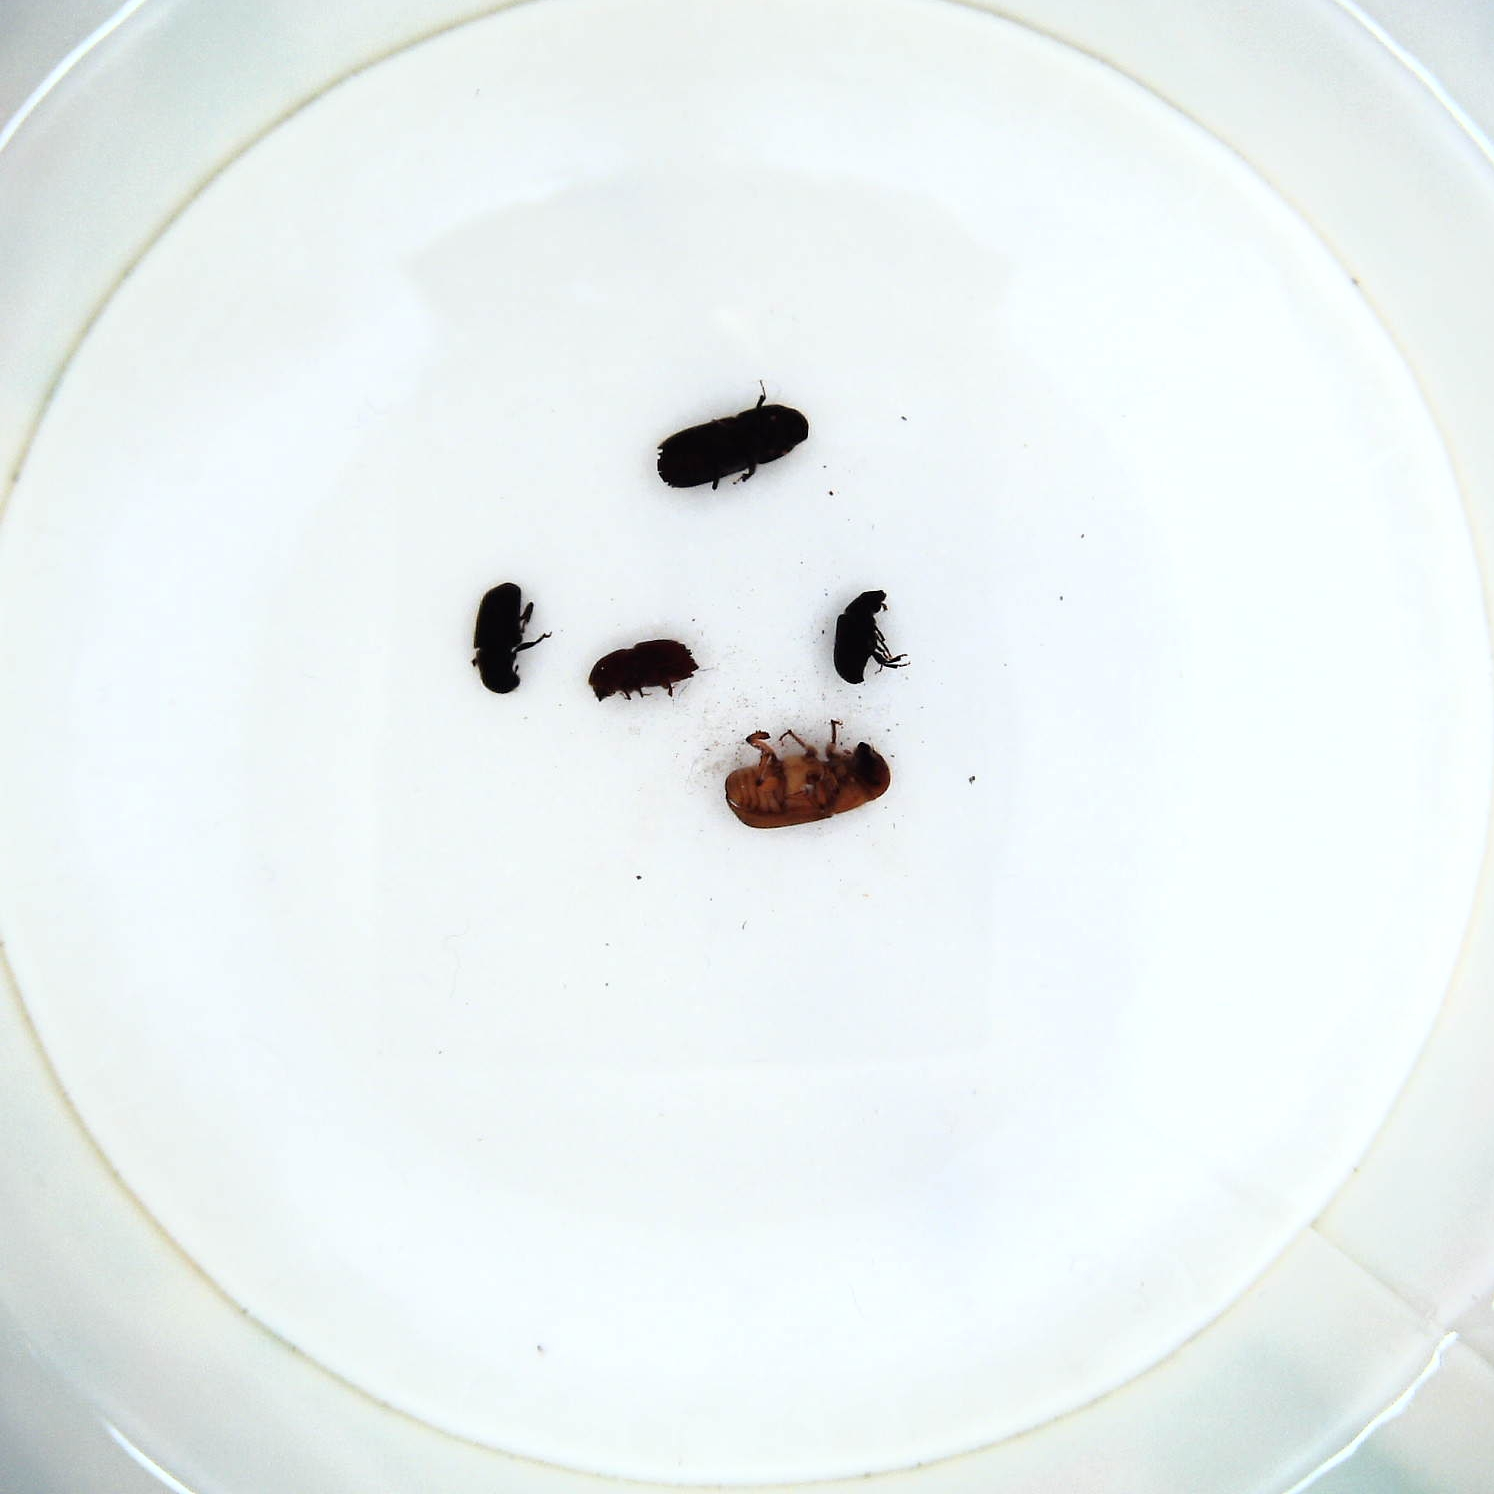Boerner: (653, 382, 810, 497)
Leconte: (722, 720, 895, 836)
armandi: (468, 572, 558, 702)
coleoptera: (829, 580, 917, 687)
linnaeus: (588, 638, 705, 706)
